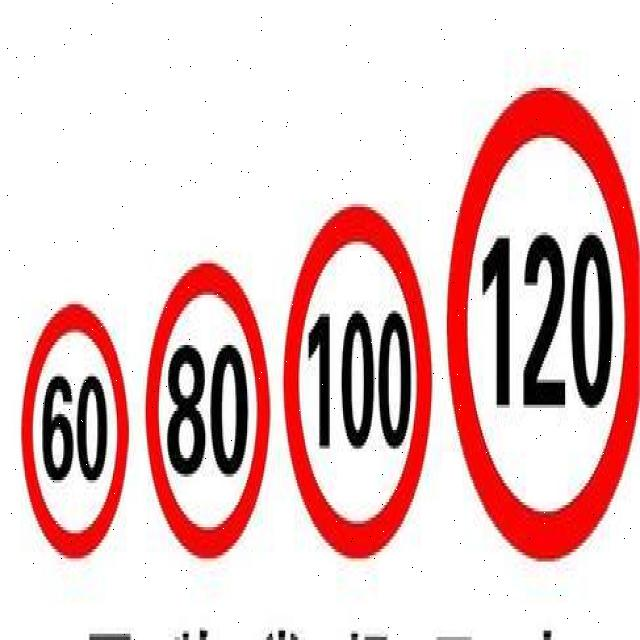speed limit 100: (282, 205, 433, 563)
speed limit 120: (444, 86, 640, 565)
speed limit 60: (20, 300, 130, 558)
speed limit 80: (145, 261, 272, 560)
